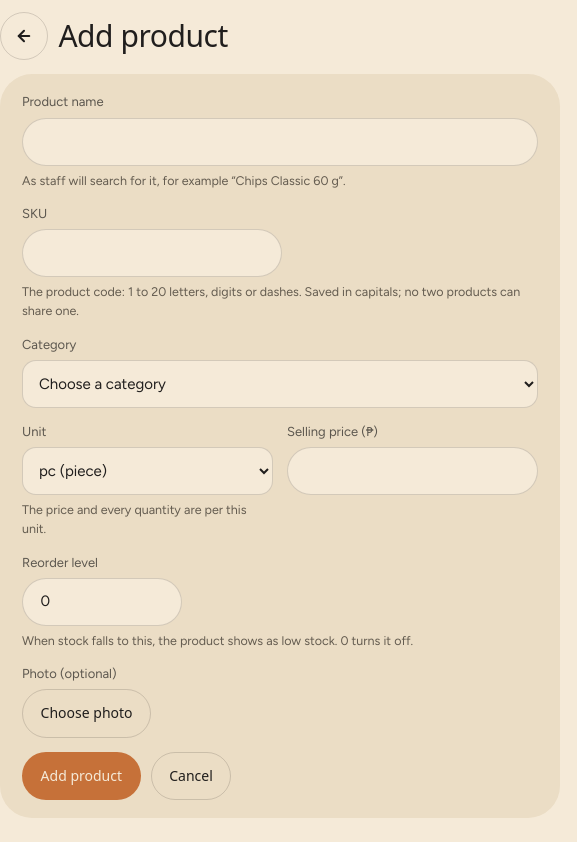
Test case: Add product (PROD-02, PROD-03) › refuses a bad SKU, a missing category and a zero price
In the field labelled "Product name": point(280, 142) [22,118,538,166], type "X"
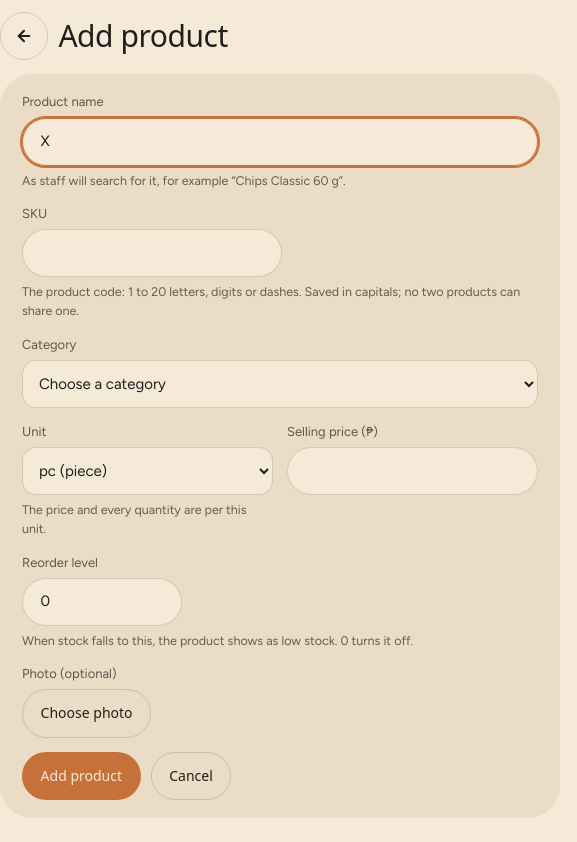
In the field labelled "SKU": point(152, 253) [22,229,282,277], type "CK 12"
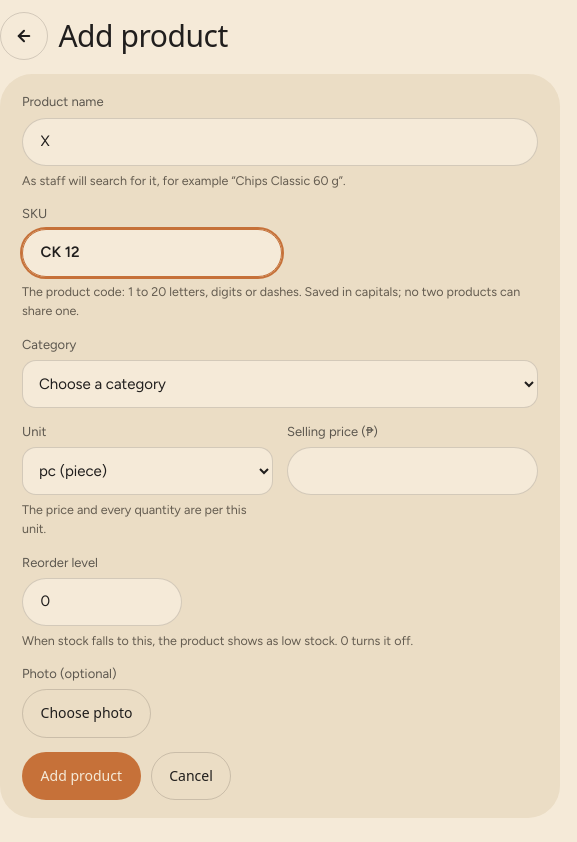
In the field labelled "Selling price (₱)": point(412, 471) [287,447,538,495], type "0"
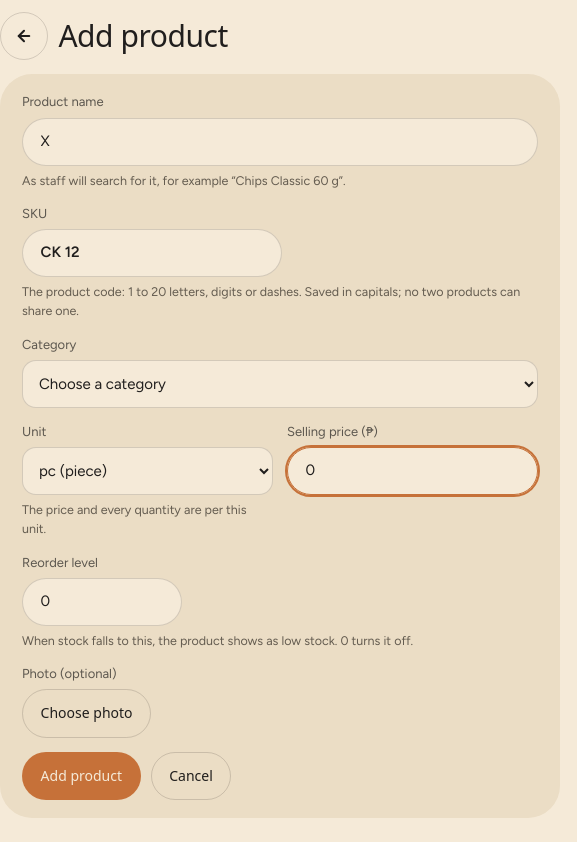
Click the button "Add product": point(81, 776) [22,752,141,800]
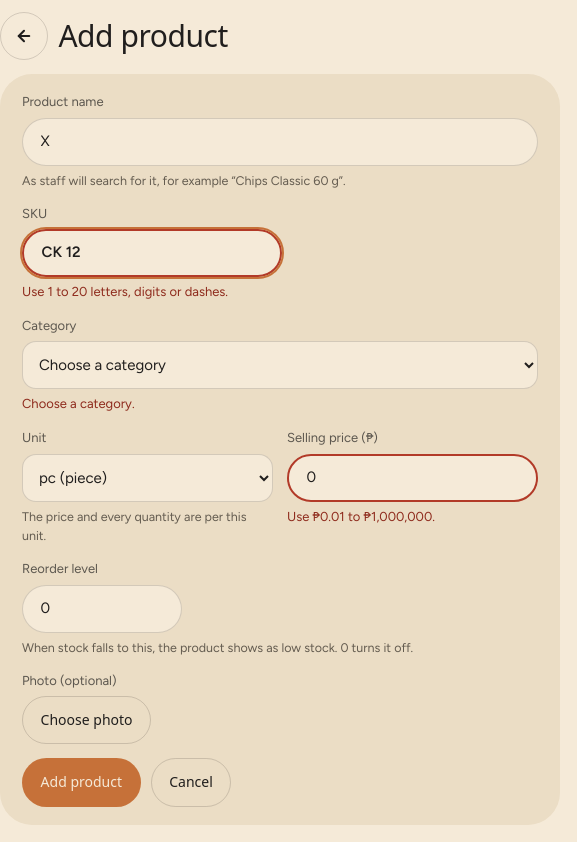
Now the text "Use 1 to 20 letters, digits or dashes." is shown, box [22,284,228,299]
Now the text "Choose a category." is shown, box [22,396,135,411]
Now the text "Use ₱0.01 to ₱1,000,000." is shown, box [287,509,435,524]
